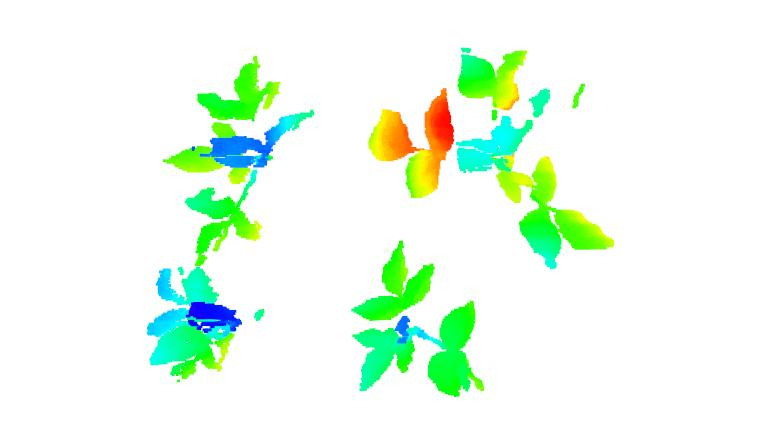mungbean: (363, 45, 618, 271), (163, 53, 319, 267), (356, 243, 487, 403), (145, 259, 246, 382)
